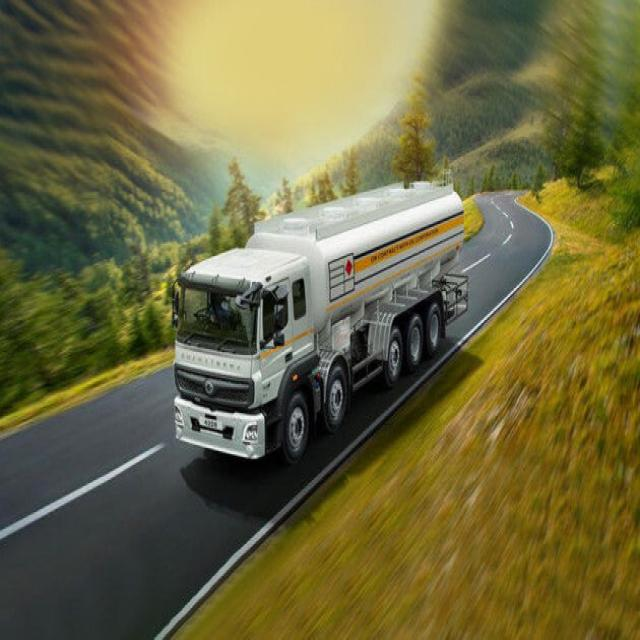truck: (171, 182, 469, 462)
